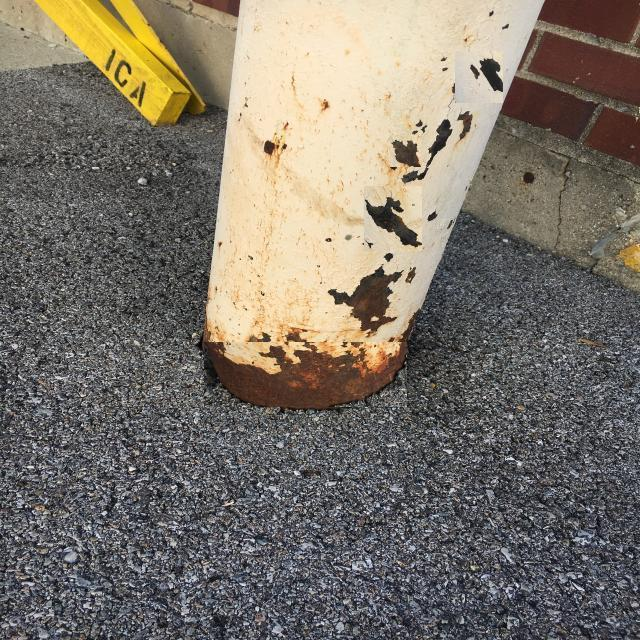Corrosion: (200, 0, 545, 409)
